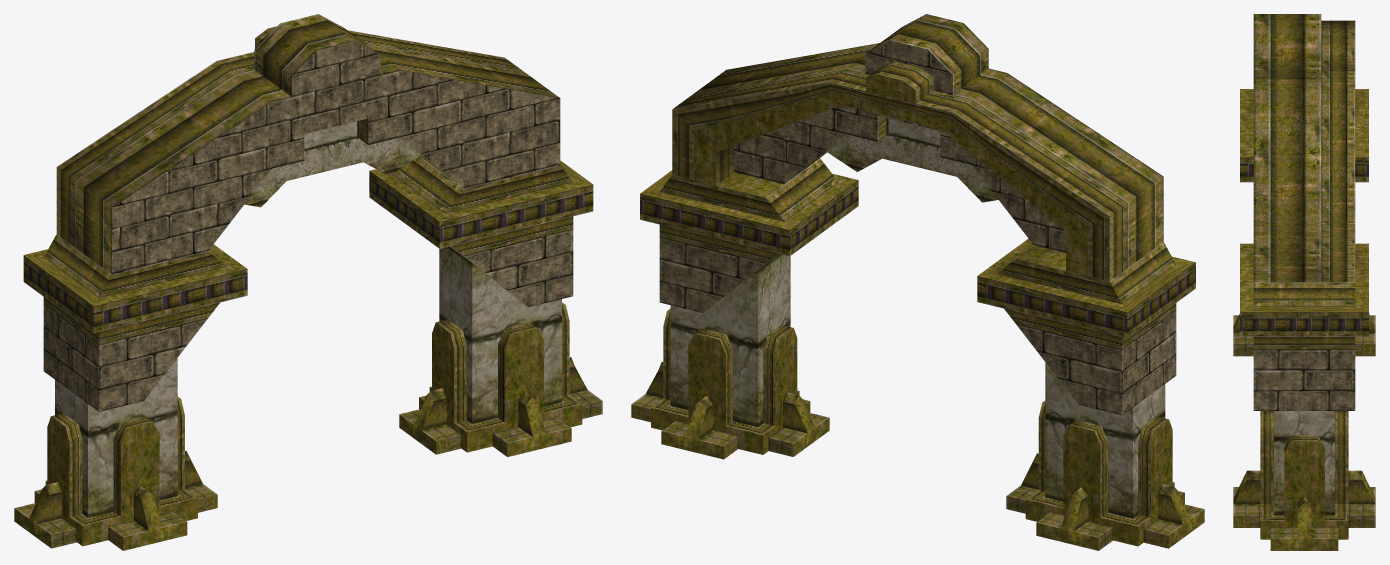
Rendered from OVERHILL_A_01_STONE_ARCHWAY_100.fbx.
3 renders of one model, left to right at view 1: azimuth 30°, elevation 25°; view 2: azimuth 150°, elevation 25°; view 3: azimuth 270°, elevation 25°, orthographic. The views are drawn at different scales.
Visible parts, largest first — view 1: OVERHILL_A_01_STONE_ARCHWAY_100; view 2: OVERHILL_A_01_STONE_ARCHWAY_100; view 3: OVERHILL_A_01_STONE_ARCHWAY_100.
Part boxes in pixels (x1=…): OVERHILL_A_01_STONE_ARCHWAY_100: x1=14, y1=14, x2=602, y2=550; OVERHILL_A_01_STONE_ARCHWAY_100: x1=631, y1=14, x2=1204, y2=550; OVERHILL_A_01_STONE_ARCHWAY_100: x1=1233, y1=14, x2=1375, y2=550.
Size of the model in its own units: 86036 by 66000 by 20992.
5 materials, 5 textured.
